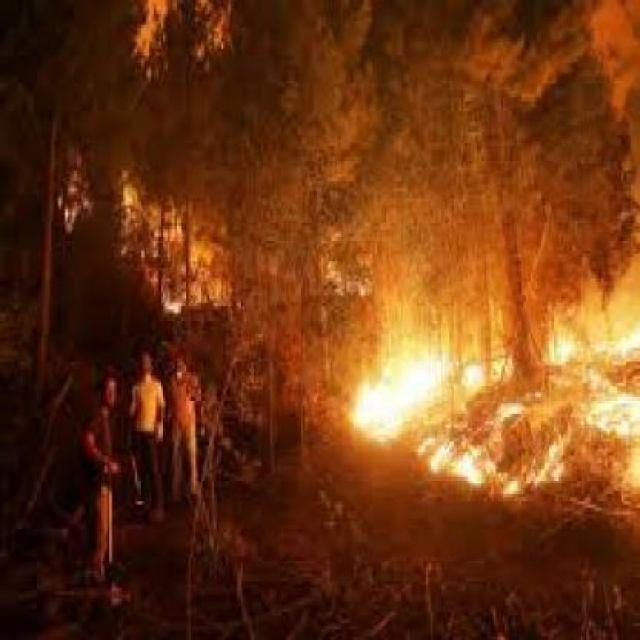Fire: (326, 299, 635, 516)
